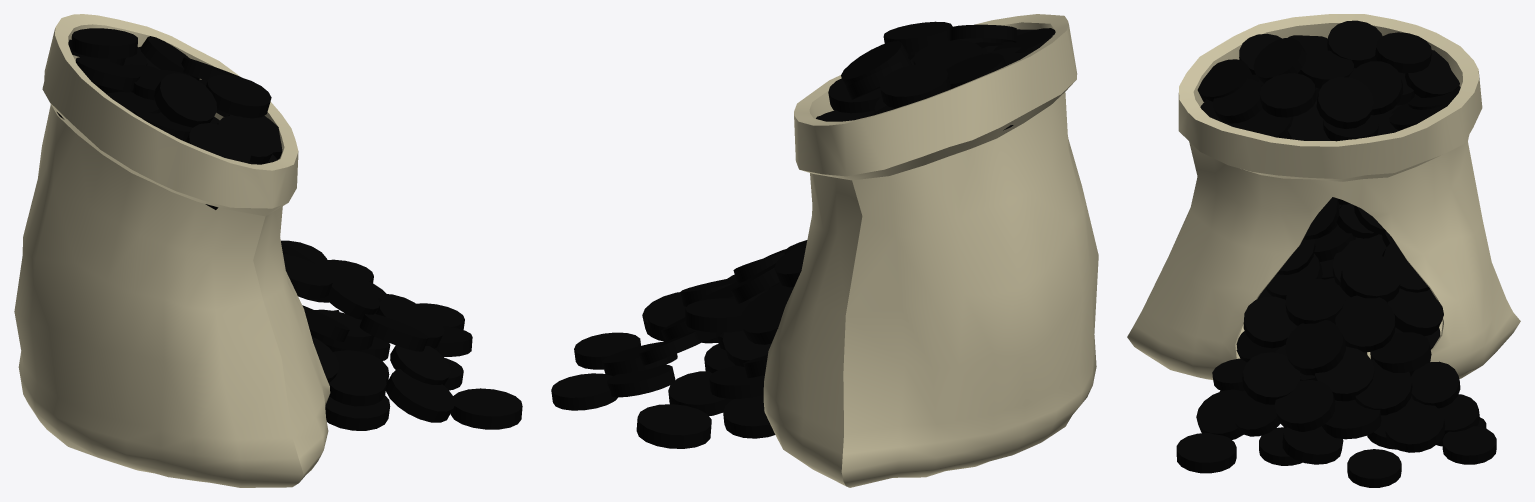
The model's file is treasure_bag_spilled.fbx.
The picture shows the model from 3 angles, left to right: view 1: azimuth 30°, elevation 25°; view 2: azimuth 150°, elevation 25°; view 3: azimuth 270°, elevation 25°; orthographic projection. The views are drawn at different scales.
Visible parts, largest first — view 1: treasure_bag_spilled, treasure_bag_spilled_coins, treasure_bag_spilled_coin_13, treasure_bag_spilled_coin_22, treasure_bag_spilled_coin_51, treasure_bag_spilled_coin_25, treasure_bag_spilled_coin_11, treasure_bag_spilled_coin_49, treasure_bag_spilled_coin_12, treasure_bag_spilled_coin_2, treasure_bag_spilled_coin_26, treasure_bag_spilled_coin_15 (+5 smaller); view 2: treasure_bag_spilled, treasure_bag_spilled_coins, treasure_bag_spilled_coin_1, treasure_bag_spilled_coin_14, treasure_bag_spilled_coin_19, treasure_bag_spilled_coin_3, treasure_bag_spilled_coin_58, treasure_bag_spilled_coin_57, treasure_bag_spilled_coin_40, treasure_bag_spilled_coin_42, treasure_bag_spilled_coin_54, treasure_bag_spilled_coin_7 (+7 smaller); view 3: treasure_bag_spilled, treasure_bag_spilled_coins, treasure_bag_spilled_coin_20, treasure_bag_spilled_coin_25, treasure_bag_spilled_coin_7, treasure_bag_spilled_coin_12, treasure_bag_spilled_coin_36, treasure_bag_spilled_coin_26, treasure_bag_spilled_coin_2, treasure_bag_spilled_coin_13, treasure_bag_spilled_coin_23, treasure_bag_spilled_coin_14 (+22 smaller).
Part boxes in pixels (x1,y1,x2,y2): treasure_bag_spilled: (14,14,330,487); treasure_bag_spilled_coins: (57,28,282,209); treasure_bag_spilled_coin_13: (450,388,522,429); treasure_bag_spilled_coin_22: (385,369,455,422); treasure_bag_spilled_coin_51: (328,363,386,406); treasure_bag_spilled_coin_25: (321,263,379,319); treasure_bag_spilled_coin_11: (390,345,450,385); treasure_bag_spilled_coin_49: (325,395,390,430); treasure_bag_spilled_coin_12: (376,298,444,348); treasure_bag_spilled_coin_2: (283,254,333,298); treasure_bag_spilled_coin_26: (359,314,428,351); treasure_bag_spilled_coin_15: (309,309,373,350); treasure_bag_spilled: (763,14,1098,487); treasure_bag_spilled_coins: (816,21,1055,130); treasure_bag_spilled_coin_1: (636,404,711,448); treasure_bag_spilled_coin_14: (740,285,793,344); treasure_bag_spilled_coin_19: (551,373,617,410); treasure_bag_spilled_coin_3: (685,298,751,332); treasure_bag_spilled_coin_58: (723,395,775,438); treasure_bag_spilled_coin_57: (668,371,733,415); treasure_bag_spilled_coin_40: (574,332,640,369); treasure_bag_spilled_coin_42: (607,364,675,397); treasure_bag_spilled_coin_54: (709,365,764,398); treasure_bag_spilled_coin_7: (602,341,677,376); treasure_bag_spilled: (1127,14,1520,379); treasure_bag_spilled_coins: (1197,20,1460,141); treasure_bag_spilled_coin_20: (1335,295,1395,352); treasure_bag_spilled_coin_25: (1285,320,1345,375); treasure_bag_spilled_coin_7: (1384,401,1445,452); treasure_bag_spilled_coin_12: (1274,380,1335,431); treasure_bag_spilled_coin_36: (1340,254,1401,302); treasure_bag_spilled_coin_26: (1242,352,1300,404); treasure_bag_spilled_coin_2: (1285,279,1345,325); treasure_bag_spilled_coin_13: (1176,433,1236,473); treasure_bag_spilled_coin_23: (1243,296,1297,348); treasure_bag_spilled_coin_14: (1387,288,1443,336).
Size of the model in its own units: 50.03 by 40.57 by 45.76.
